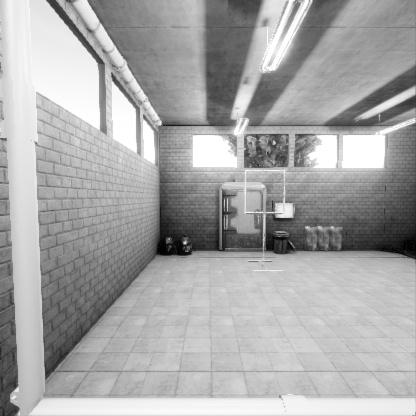gate: (244, 204, 288, 247)
